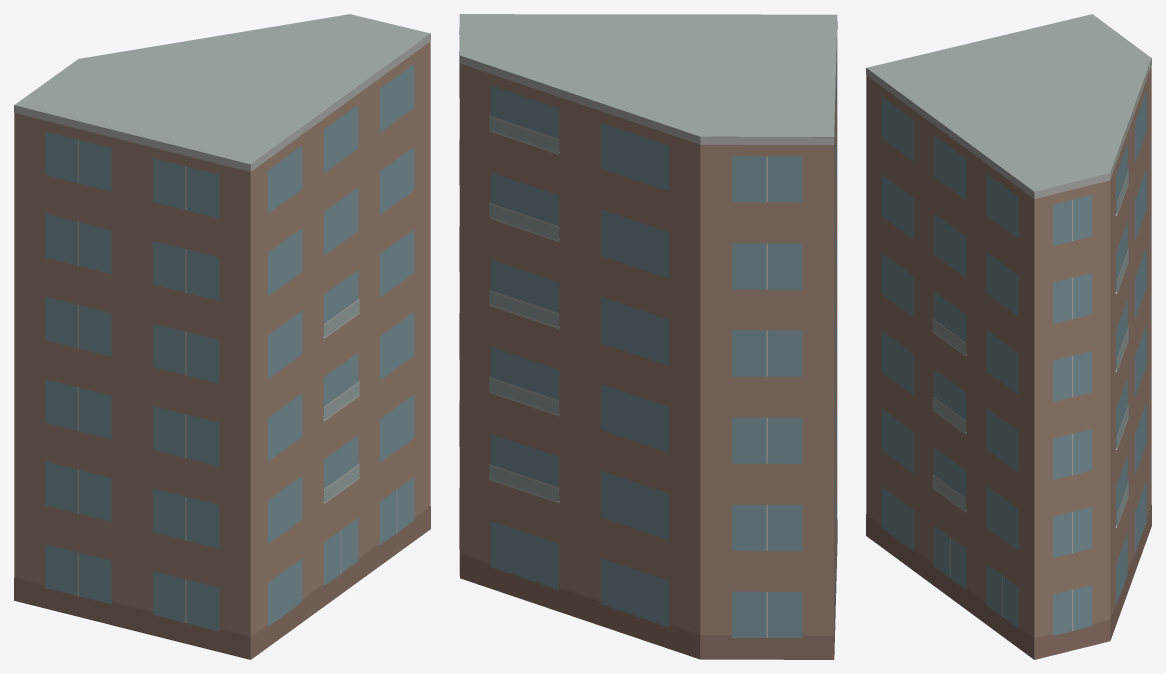
Rendered from survey-upis-32741825.glb.
3 renders of one model, left to right at view 1: azimuth 30°, elevation 25°; view 2: azimuth 150°, elevation 25°; view 3: azimuth 270°, elevation 25°, orthographic. The views are drawn at different scales.
Visible parts, largest first — view 1: survey-upis-32741825.tmp; view 2: survey-upis-32741825.tmp; view 3: survey-upis-32741825.tmp.
Part boxes in pixels (x1,y1,x2,y2): survey-upis-32741825.tmp: (14, 14, 430, 659); survey-upis-32741825.tmp: (459, 14, 837, 659); survey-upis-32741825.tmp: (866, 14, 1151, 659).
Size of the model in its own units: 12.97 by 15.9 by 8.8.
